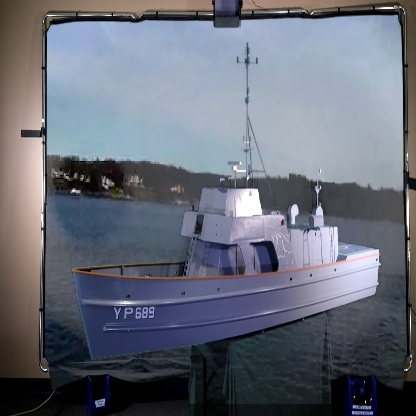YP689: (72, 42, 382, 362)
